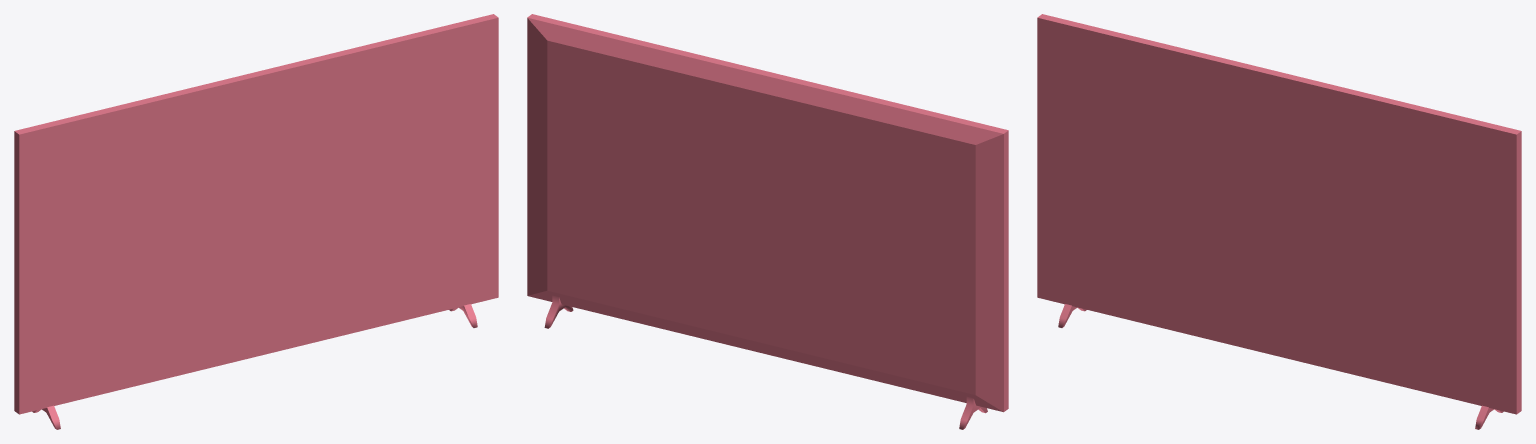
The picture shows the model from 3 angles, left to right: view 1: azimuth 30°, elevation 25°; view 2: azimuth 150°, elevation 25°; view 3: azimuth 330°, elevation 25°; orthographic projection.
Visible parts, largest first — view 1: TV; view 2: TV; view 3: TV.
Boxes of the visible parts, x1,y1,x2,y2 form: TV: [14, 14, 498, 429]; TV: [527, 14, 1008, 429]; TV: [1037, 14, 1521, 429].
Bounding box in the file's own units: 138 × 81.5 × 12.57.
